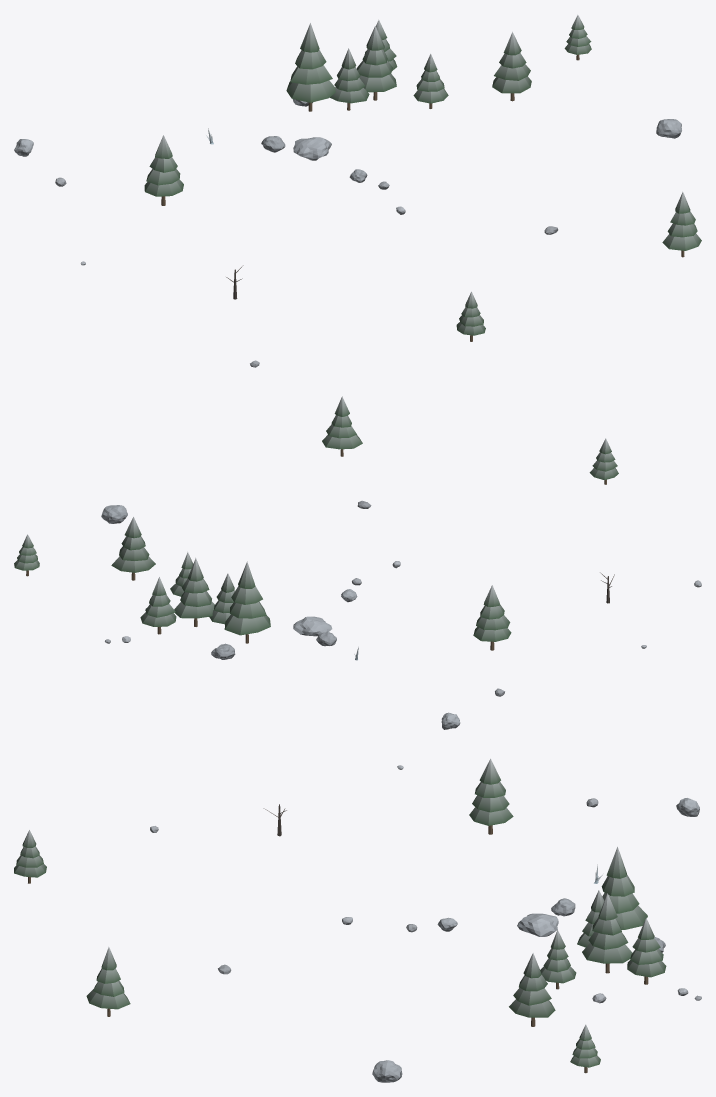
The model's file is frost_land_scatter_c18_13.glb.
3 views of the same model, one above another, from view 1: azimuth 30°, elevation 25°; view 2: azimuth 150°, elevation 25°; view 3: azimuth 270°, elevation 25° (orthographic). The views are drawn at different scales.
Parts seen in each view (by area): view 1: frost_land_scatter_c18_13; view 2: frost_land_scatter_c18_13; view 3: frost_land_scatter_c18_13.
Part boxes in pixels (x1,y1,x2,y2): frost_land_scatter_c18_13: (14,15,701,367); frost_land_scatter_c18_13: (14,396,701,729); frost_land_scatter_c18_13: (14,758,701,1082).
Size of the model in its own units: 96.78 by 18.55 by 90.2.
